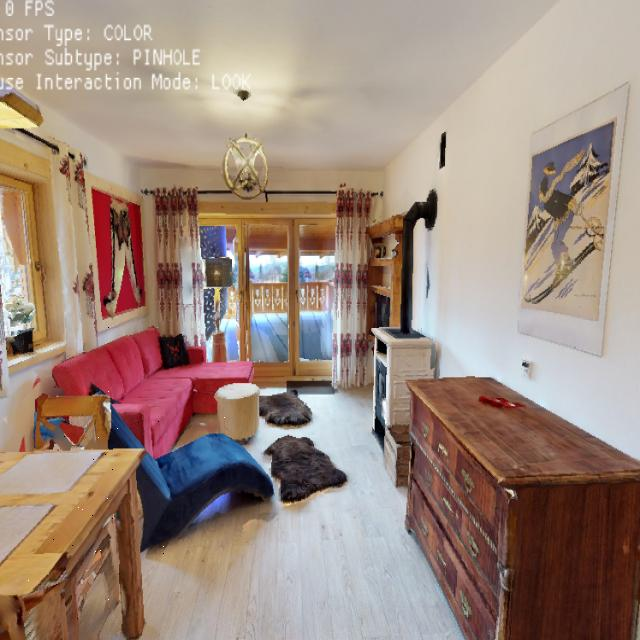sofa: (50, 317, 263, 467)
table: (0, 421, 169, 640)
